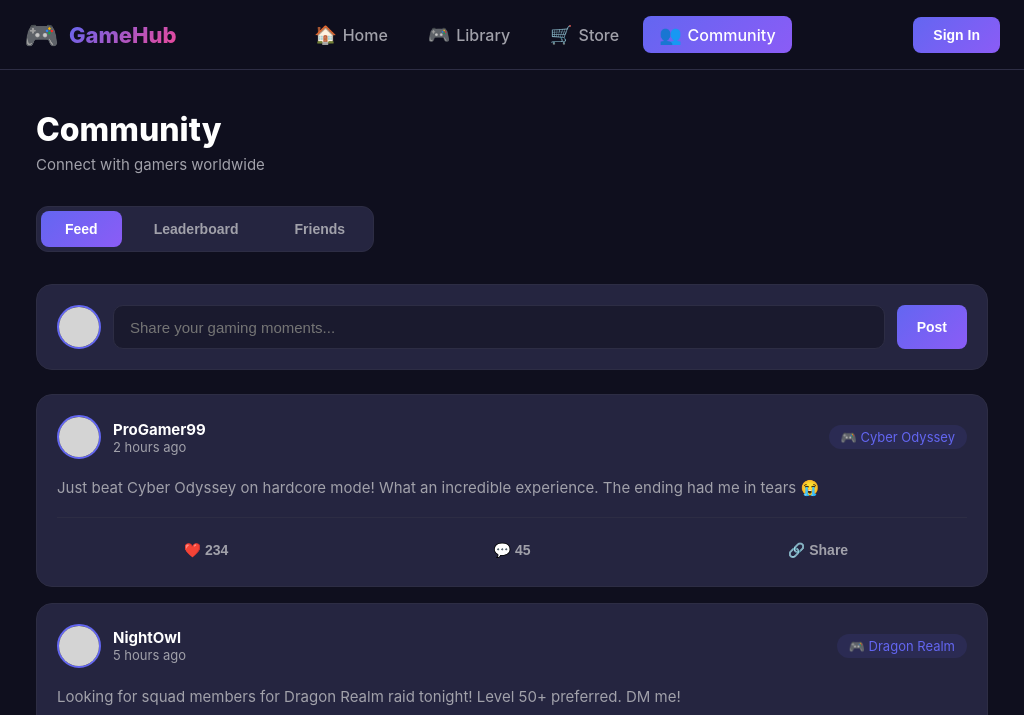
Community Page › Leaderboard tab shows top players
The image size is (1024, 715).
Click the button "Leaderboard" at (196, 229), box [130, 211, 262, 247]
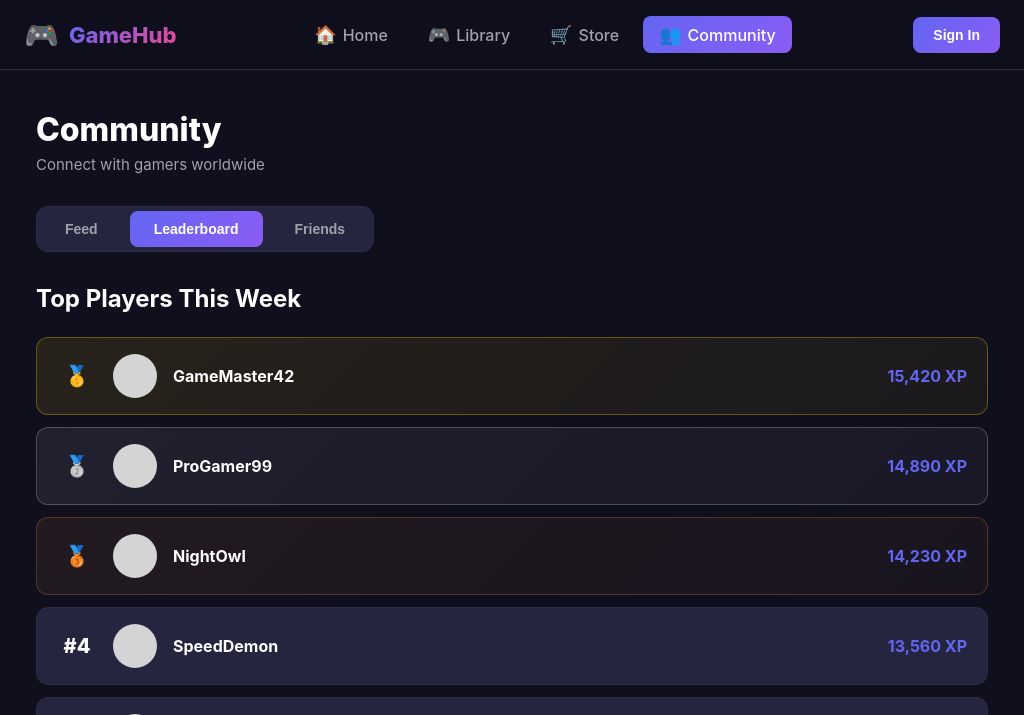
Expected: the heading "Top Players This Week" is shown, [36, 284, 301, 313]
Expected: the text "GameMaster42" is shown, [173, 366, 294, 386]
